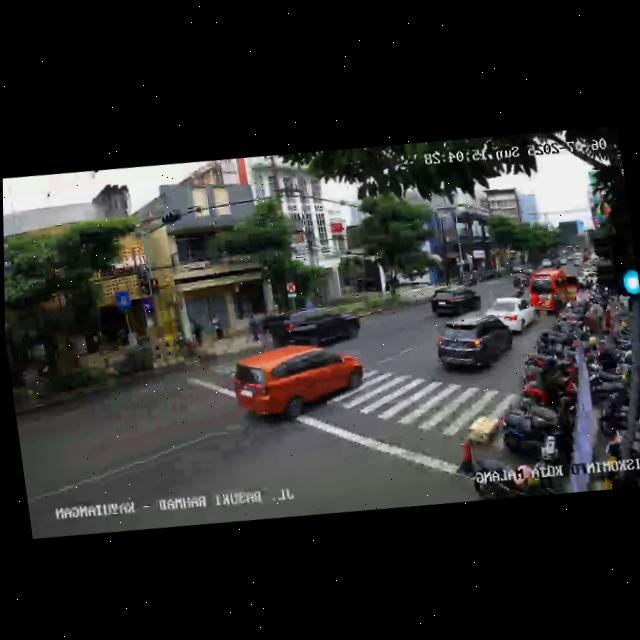car: (228, 332, 369, 435), (432, 308, 516, 381), (264, 298, 364, 359), (527, 264, 584, 318), (426, 281, 483, 323), (485, 292, 537, 338)
motorcycle: (513, 272, 527, 297)
person: (247, 310, 260, 343)
